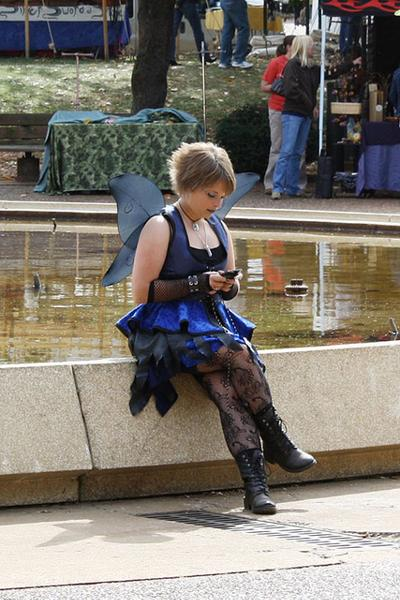person: (132, 140, 318, 515)
